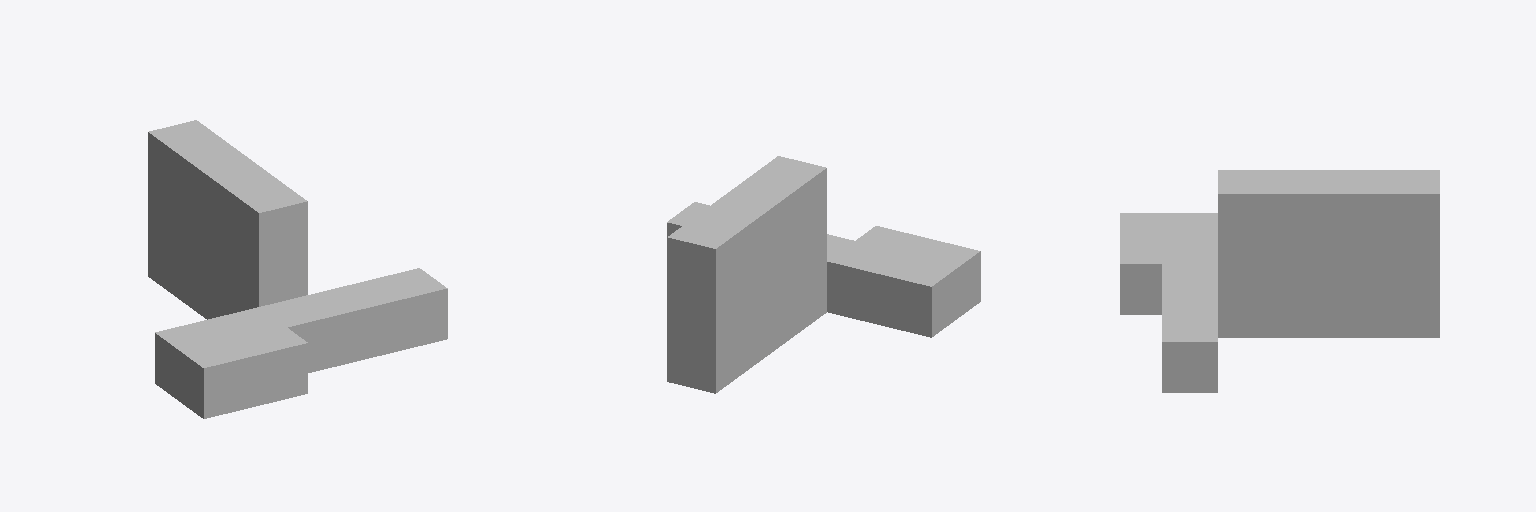
Rendered from kimoblock.obj.
3 views of the same model, side by side, from view 1: azimuth 30°, elevation 25°; view 2: azimuth 150°, elevation 25°; view 3: azimuth 270°, elevation 25° (orthographic).
Parts seen in each view (by area): view 1: Cube; view 2: Cube; view 3: Cube.
Boxes of the visible parts, x1=… form: Cube: x1=148, y1=120, x2=447, y2=418; Cube: x1=667, y1=156, x2=980, y2=393; Cube: x1=1120, y1=170, x2=1439, y2=392.
Bounding box in the file's own units: 10.89 × 5.68 × 11.41.